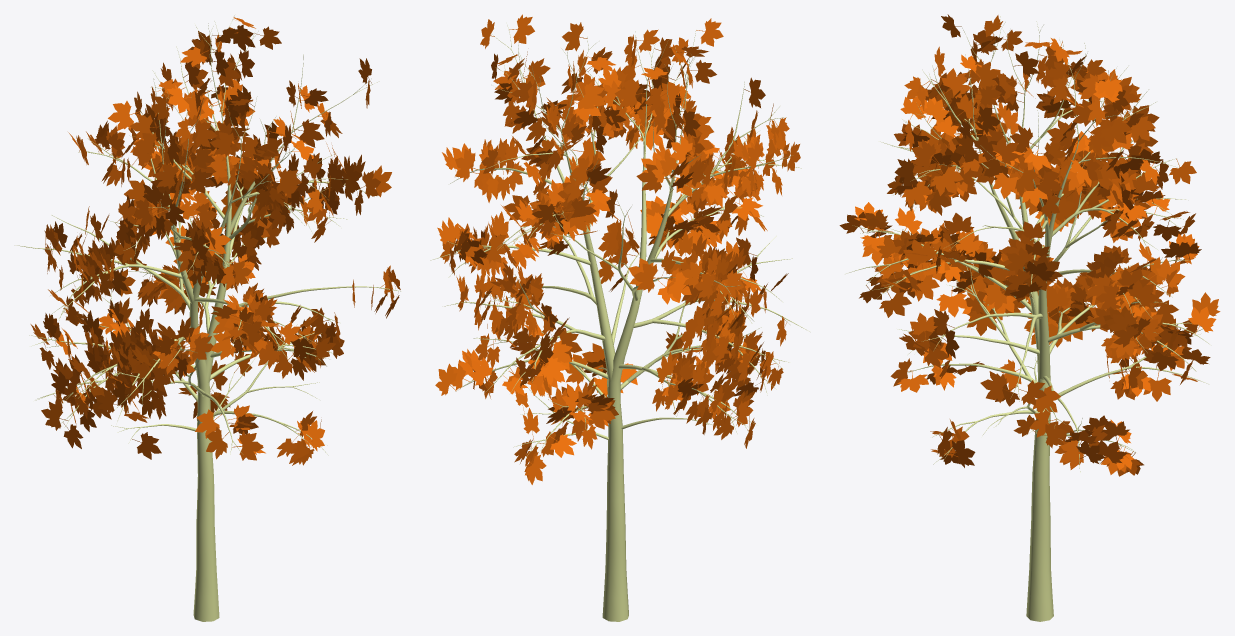
Rendered from tree3new.fbx.
The picture shows the model from 3 angles, left to right: view 1: azimuth 30°, elevation 25°; view 2: azimuth 150°, elevation 25°; view 3: azimuth 270°, elevation 25°; orthographic projection. The views are drawn at different scales.
Parts seen in each view (by area): view 1: tree.001; view 2: tree.001; view 3: tree.001, tree.001|Plane|Dupli|644.
Boxes of the visible parts, x1,y1,x2,y2 form: tree.001: [15, 15, 401, 621]; tree.001: [430, 25, 809, 621]; tree.001: [846, 16, 1209, 621]; tree.001|Plane|Dupli|644: [931, 164, 963, 195].
Bounding box in the file's own units: 1001 × 1641 × 957.
